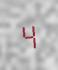four: (19, 20, 37, 49)
